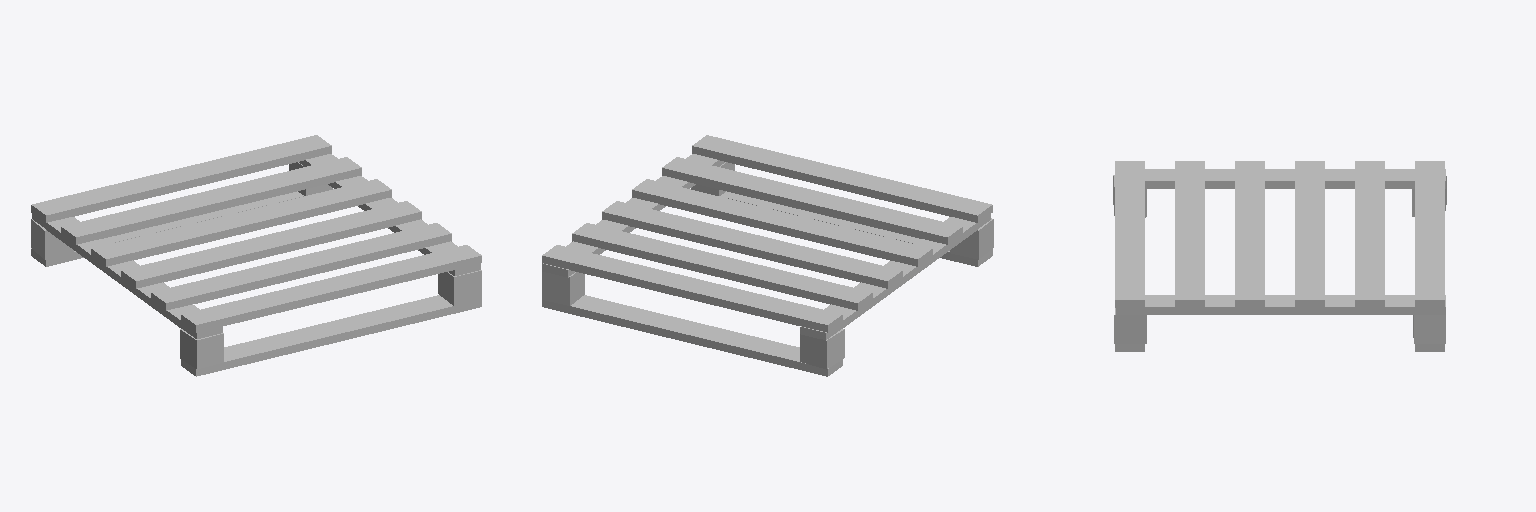
The model's file is trukkilava.obj.
3 renders of one model, left to right at view 1: azimuth 30°, elevation 25°; view 2: azimuth 150°, elevation 25°; view 3: azimuth 270°, elevation 25°, orthographic.
Parts seen in each view (by area): view 1: Cube.008; view 2: Cube.008; view 3: Cube.008.
Boxes of the visible parts, x1=… form: Cube.008: x1=31, y1=135, x2=481, y2=376; Cube.008: x1=542, y1=135, x2=993, y2=376; Cube.008: x1=1113, y1=161, x2=1446, y2=351.
Bounding box in the file's own units: 2.21 × 0.3786 × 2.22.